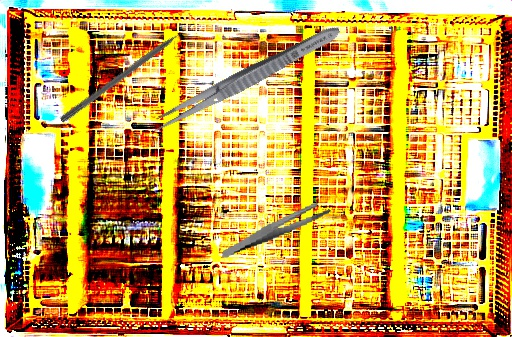Dressing Forceps: (148, 19, 344, 139), (215, 200, 336, 259)
Pusher: (59, 20, 198, 125)
